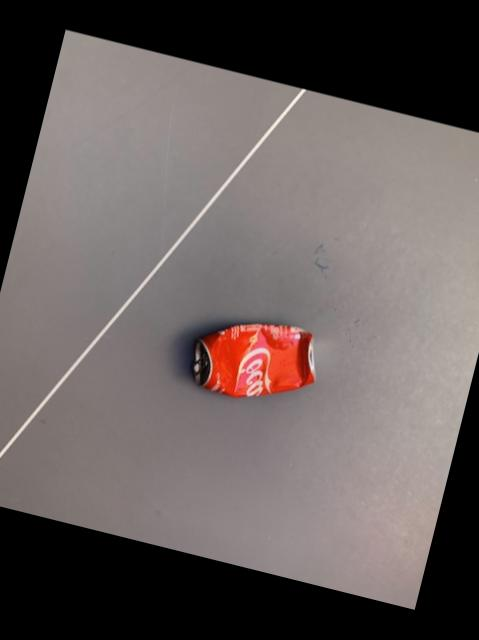metal: (191, 322, 312, 395)
